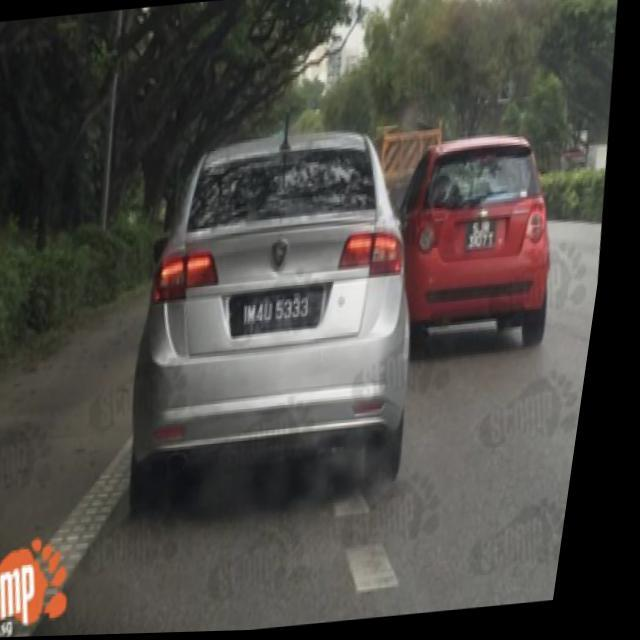license_plate: (230, 284, 338, 338)
